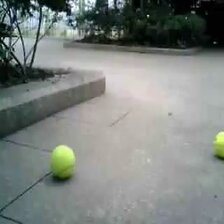tennis: (52, 146, 74, 177), (212, 131, 224, 158)
